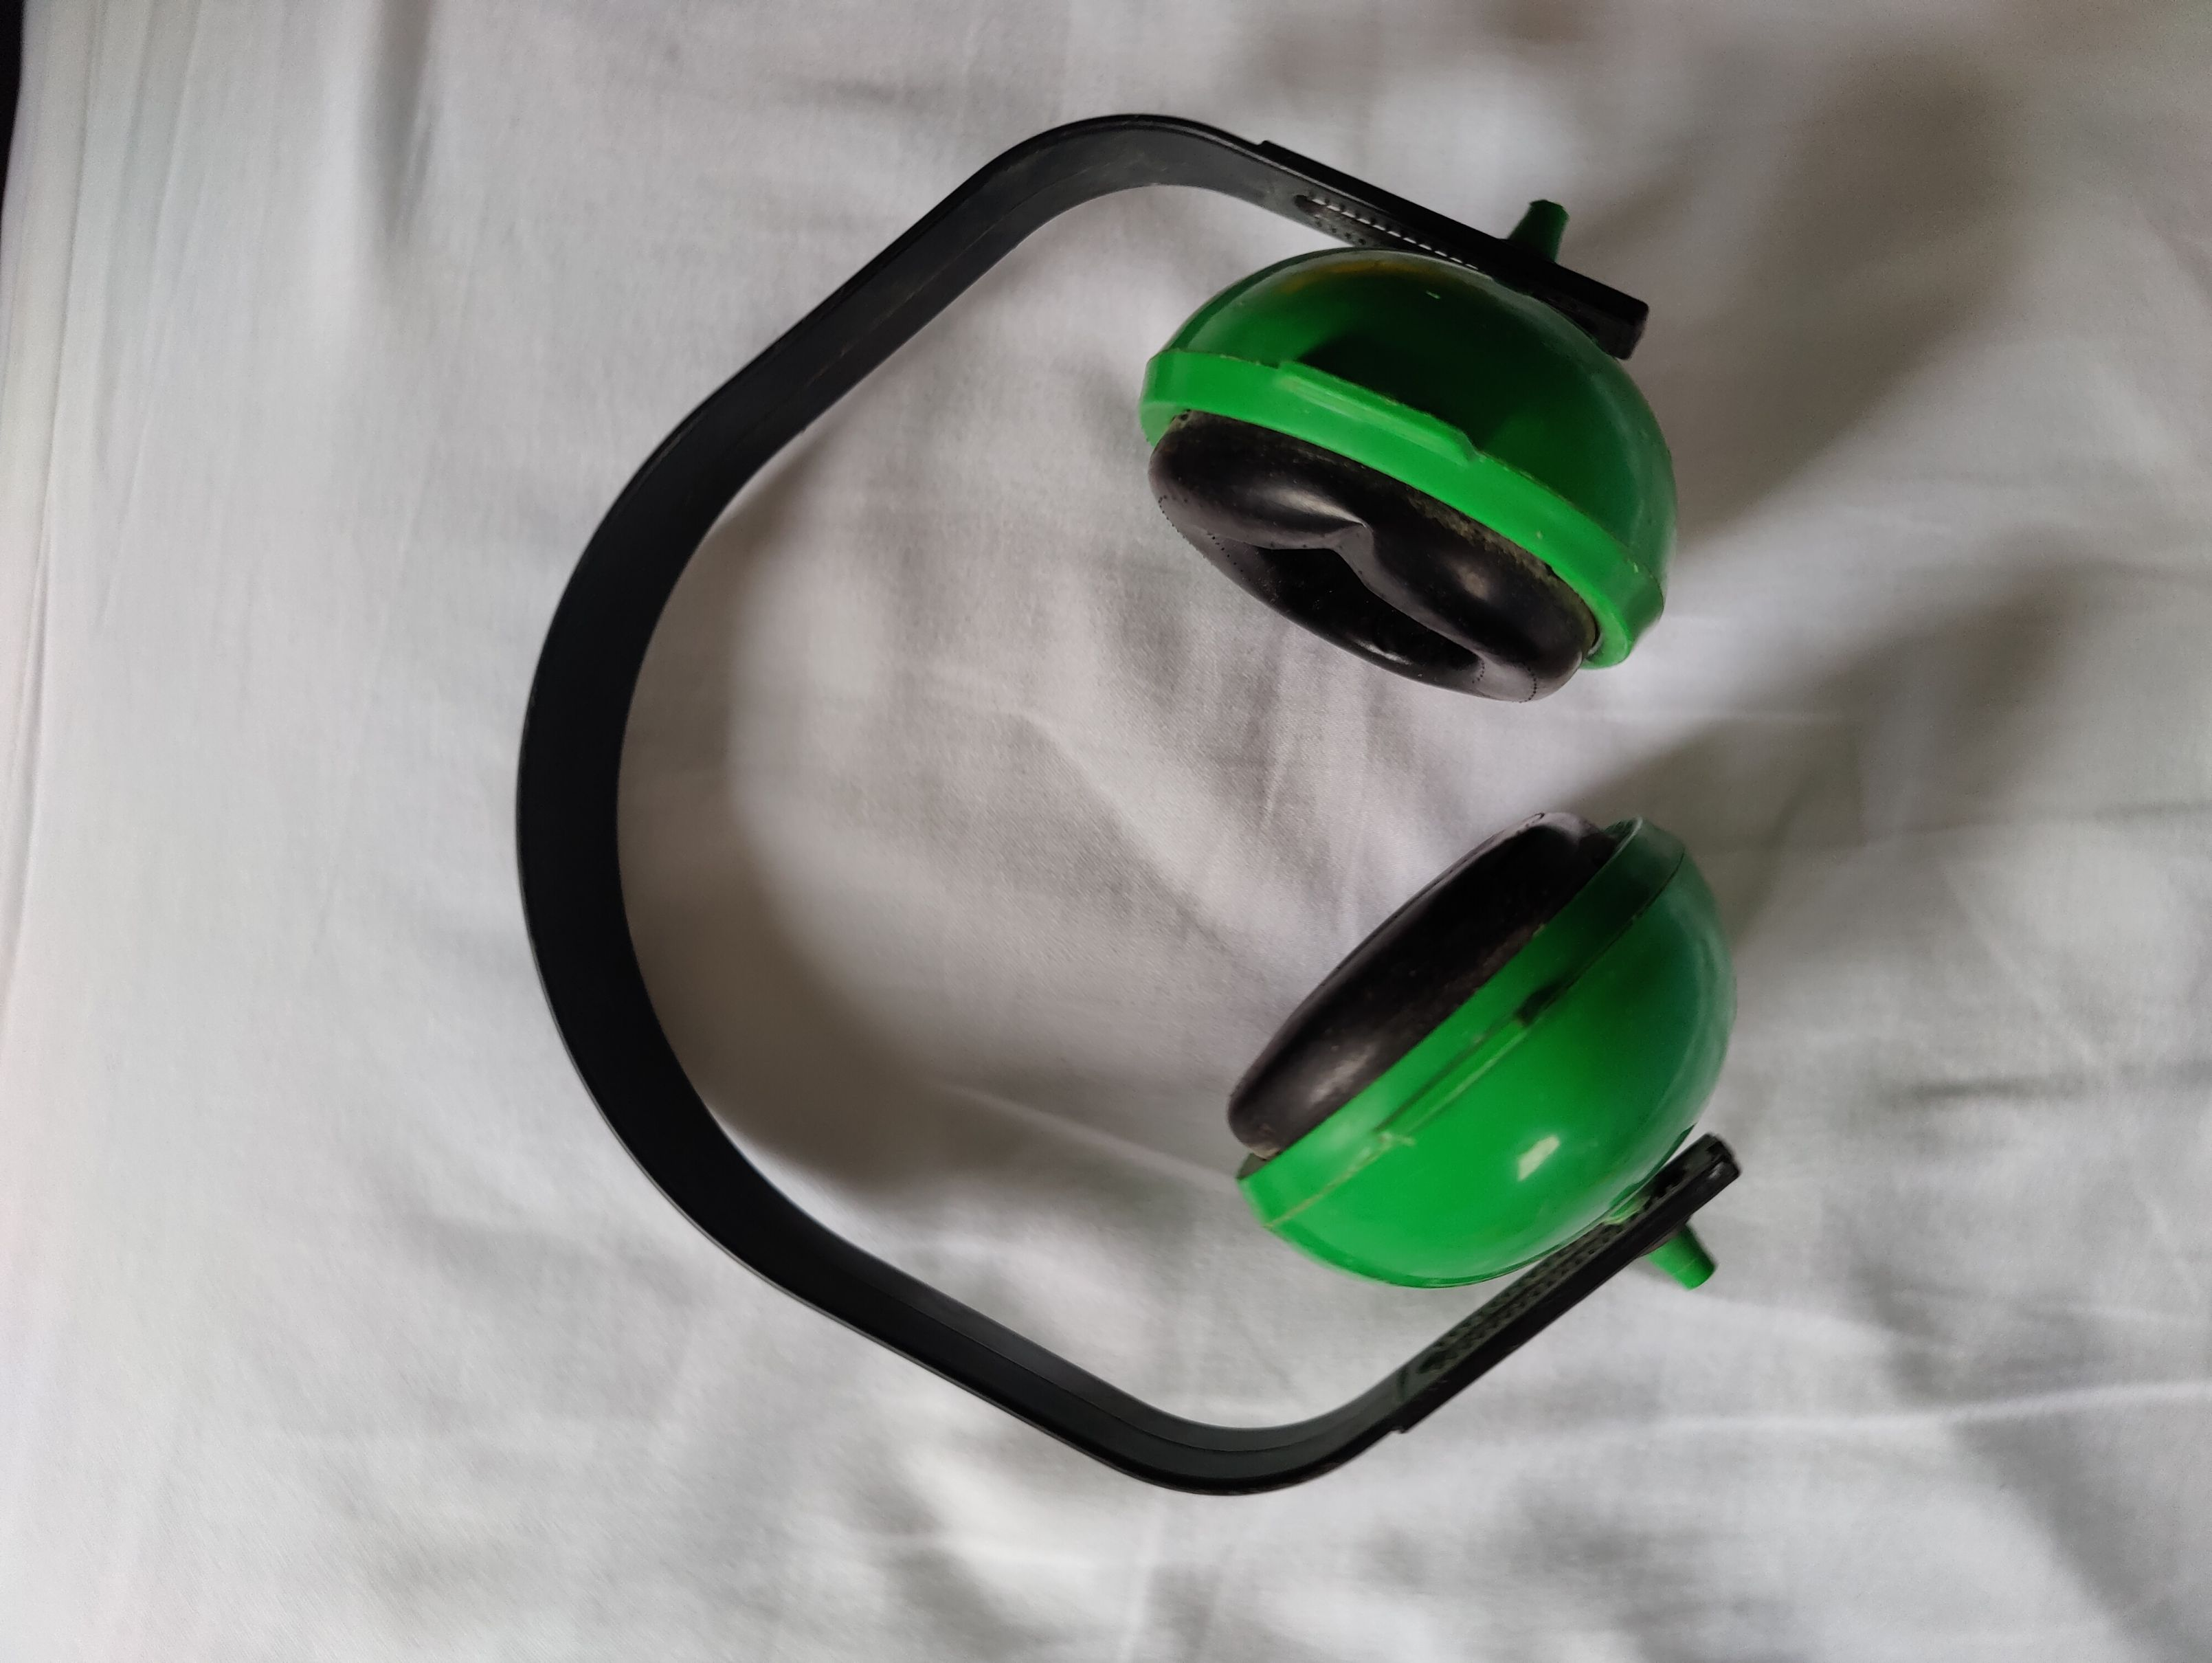headphones: (515, 110, 1745, 1476)
